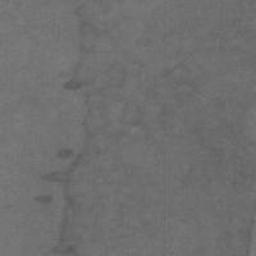Water spot: (38, 0, 256, 256), (33, 193, 54, 205), (56, 148, 73, 157)
